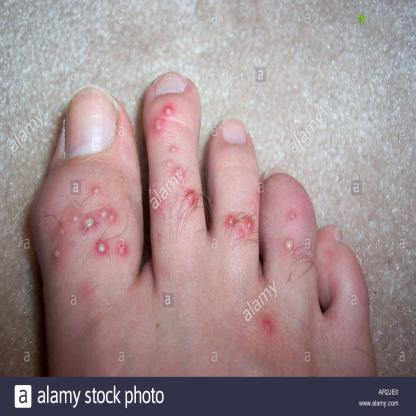Fire ant: (70, 206, 120, 230), (224, 210, 256, 238), (149, 104, 175, 132), (164, 144, 182, 179), (280, 233, 300, 256), (92, 237, 108, 262), (148, 180, 160, 213), (258, 315, 274, 338), (184, 188, 199, 211), (48, 245, 66, 264), (56, 218, 68, 242), (114, 241, 130, 259), (250, 190, 262, 208), (90, 182, 101, 197), (185, 80, 193, 96), (125, 195, 134, 208)
